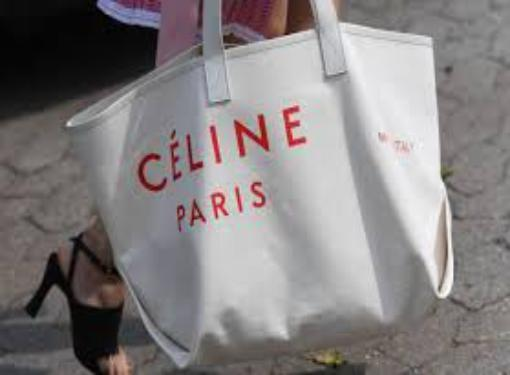CELINE: (138, 104, 307, 192)
